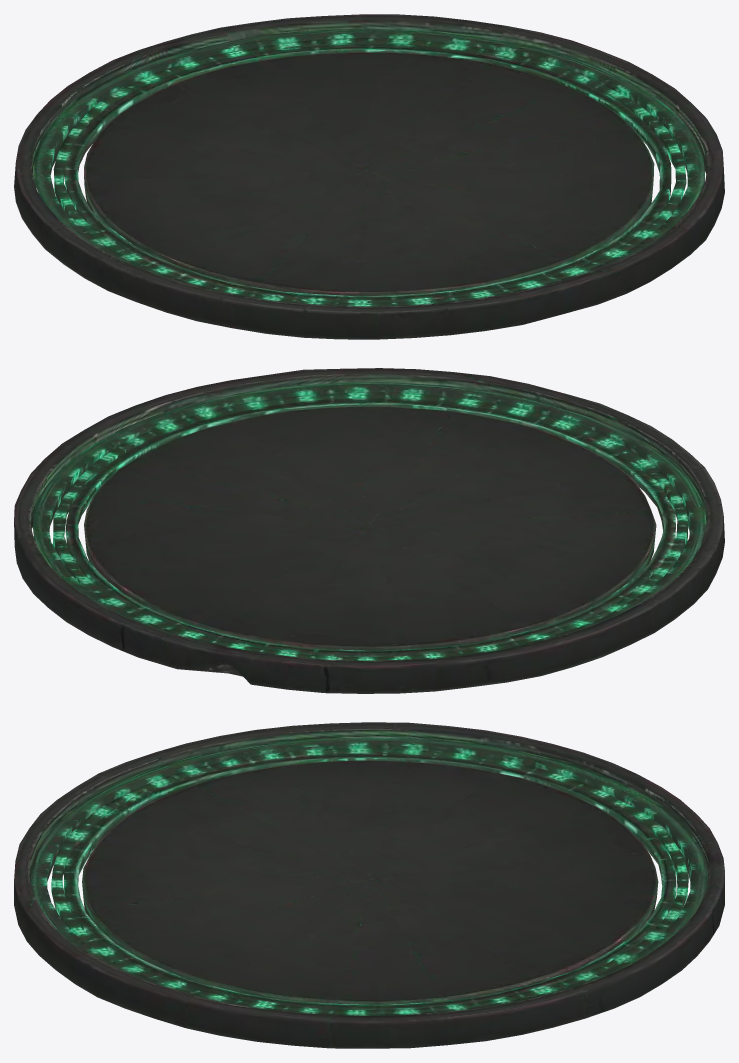
Rendered from pad.glb.
The picture shows the model from 3 angles, top to bottom: view 1: azimuth 30°, elevation 25°; view 2: azimuth 150°, elevation 25°; view 3: azimuth 270°, elevation 25°; orthographic projection.
Visible parts, largest first — view 1: mesh_node; view 2: mesh_node; view 3: mesh_node.
Part boxes in pixels (x1,y1,x2,y2): mesh_node: [14, 14, 724, 339]; mesh_node: [14, 368, 724, 693]; mesh_node: [14, 722, 724, 1048].
Bounding box in the file's own units: 0.998 × 0.0439 × 1.
1 material, 1 textured.
